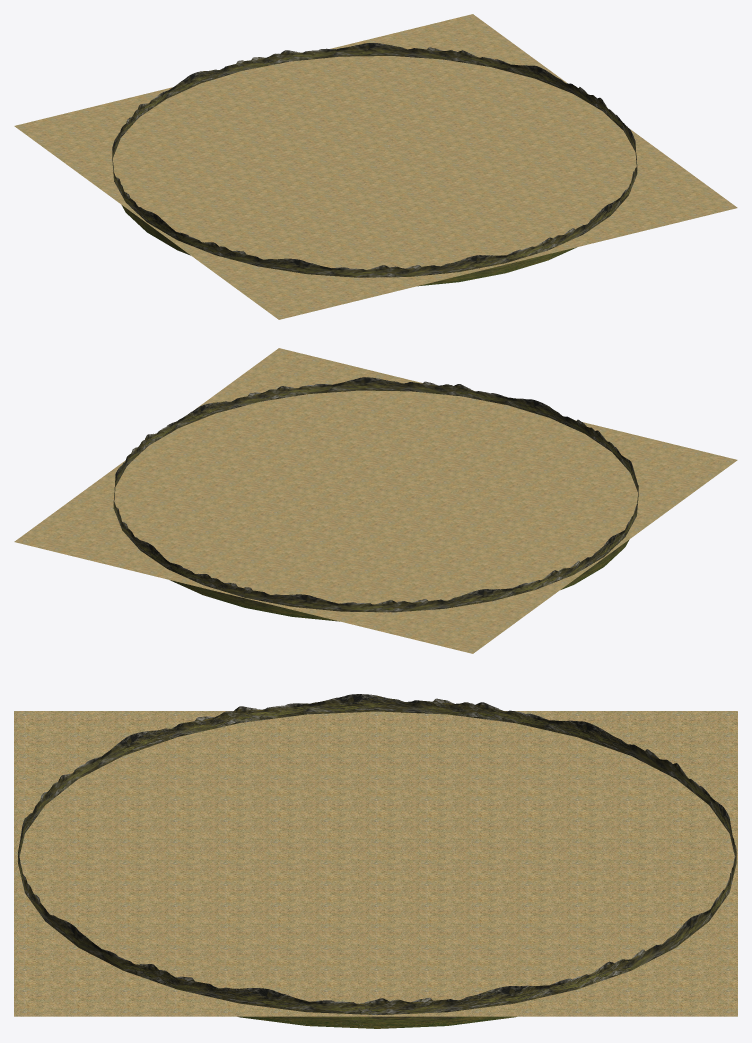
The model's file is field.fbx.
3 renders of one model, top to bottom at view 1: azimuth 30°, elevation 25°; view 2: azimuth 150°, elevation 25°; view 3: azimuth 270°, elevation 25°, orthographic. The views are drawn at different scales.
Visible parts, largest first — view 1: Плоскость, Цилиндр; view 2: Плоскость, Цилиндр; view 3: Плоскость, Цилиндр.
Part boxes in pixels (x1,y1,x2,y2): Плоскость: (14,14,737,319); Цилиндр: (112,43,637,286); Плоскость: (14,348,737,653); Цилиндр: (113,377,638,621); Плоскость: (14,711,737,1016); Цилиндр: (18,694,736,1028).
Size of the model in its own units: 2807 by 185 by 2807.
